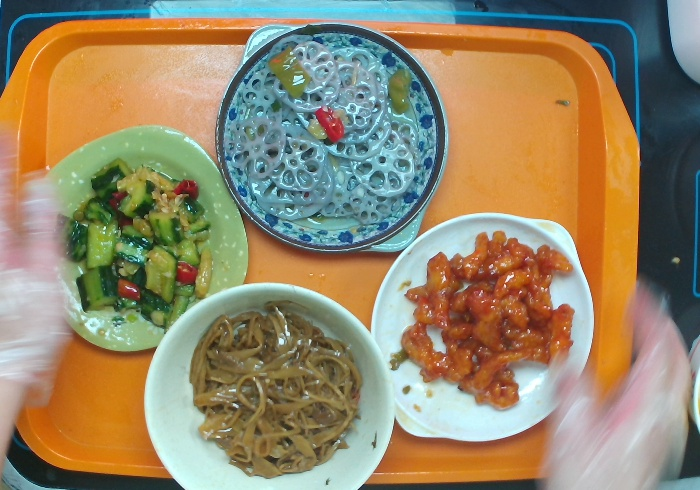NLDX-Bai_Se_Shuang_Er_Die: (372, 211, 593, 444)
NLDX-Bai_Se_Yuan_Wan: (139, 280, 401, 490)
NLDX-Lv_Hua_Fang_Die: (41, 122, 249, 350)
NLDX-Qing_Hua_Shuang_Er_Die: (215, 22, 447, 257)
